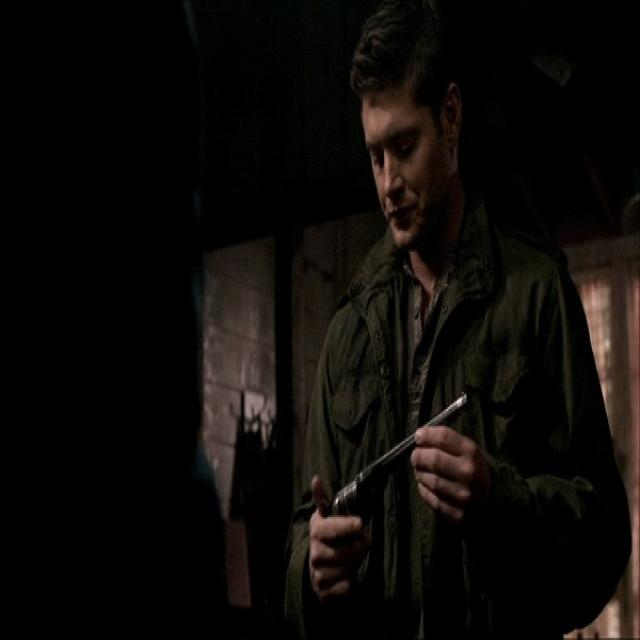rifle: (327, 382, 485, 529)
